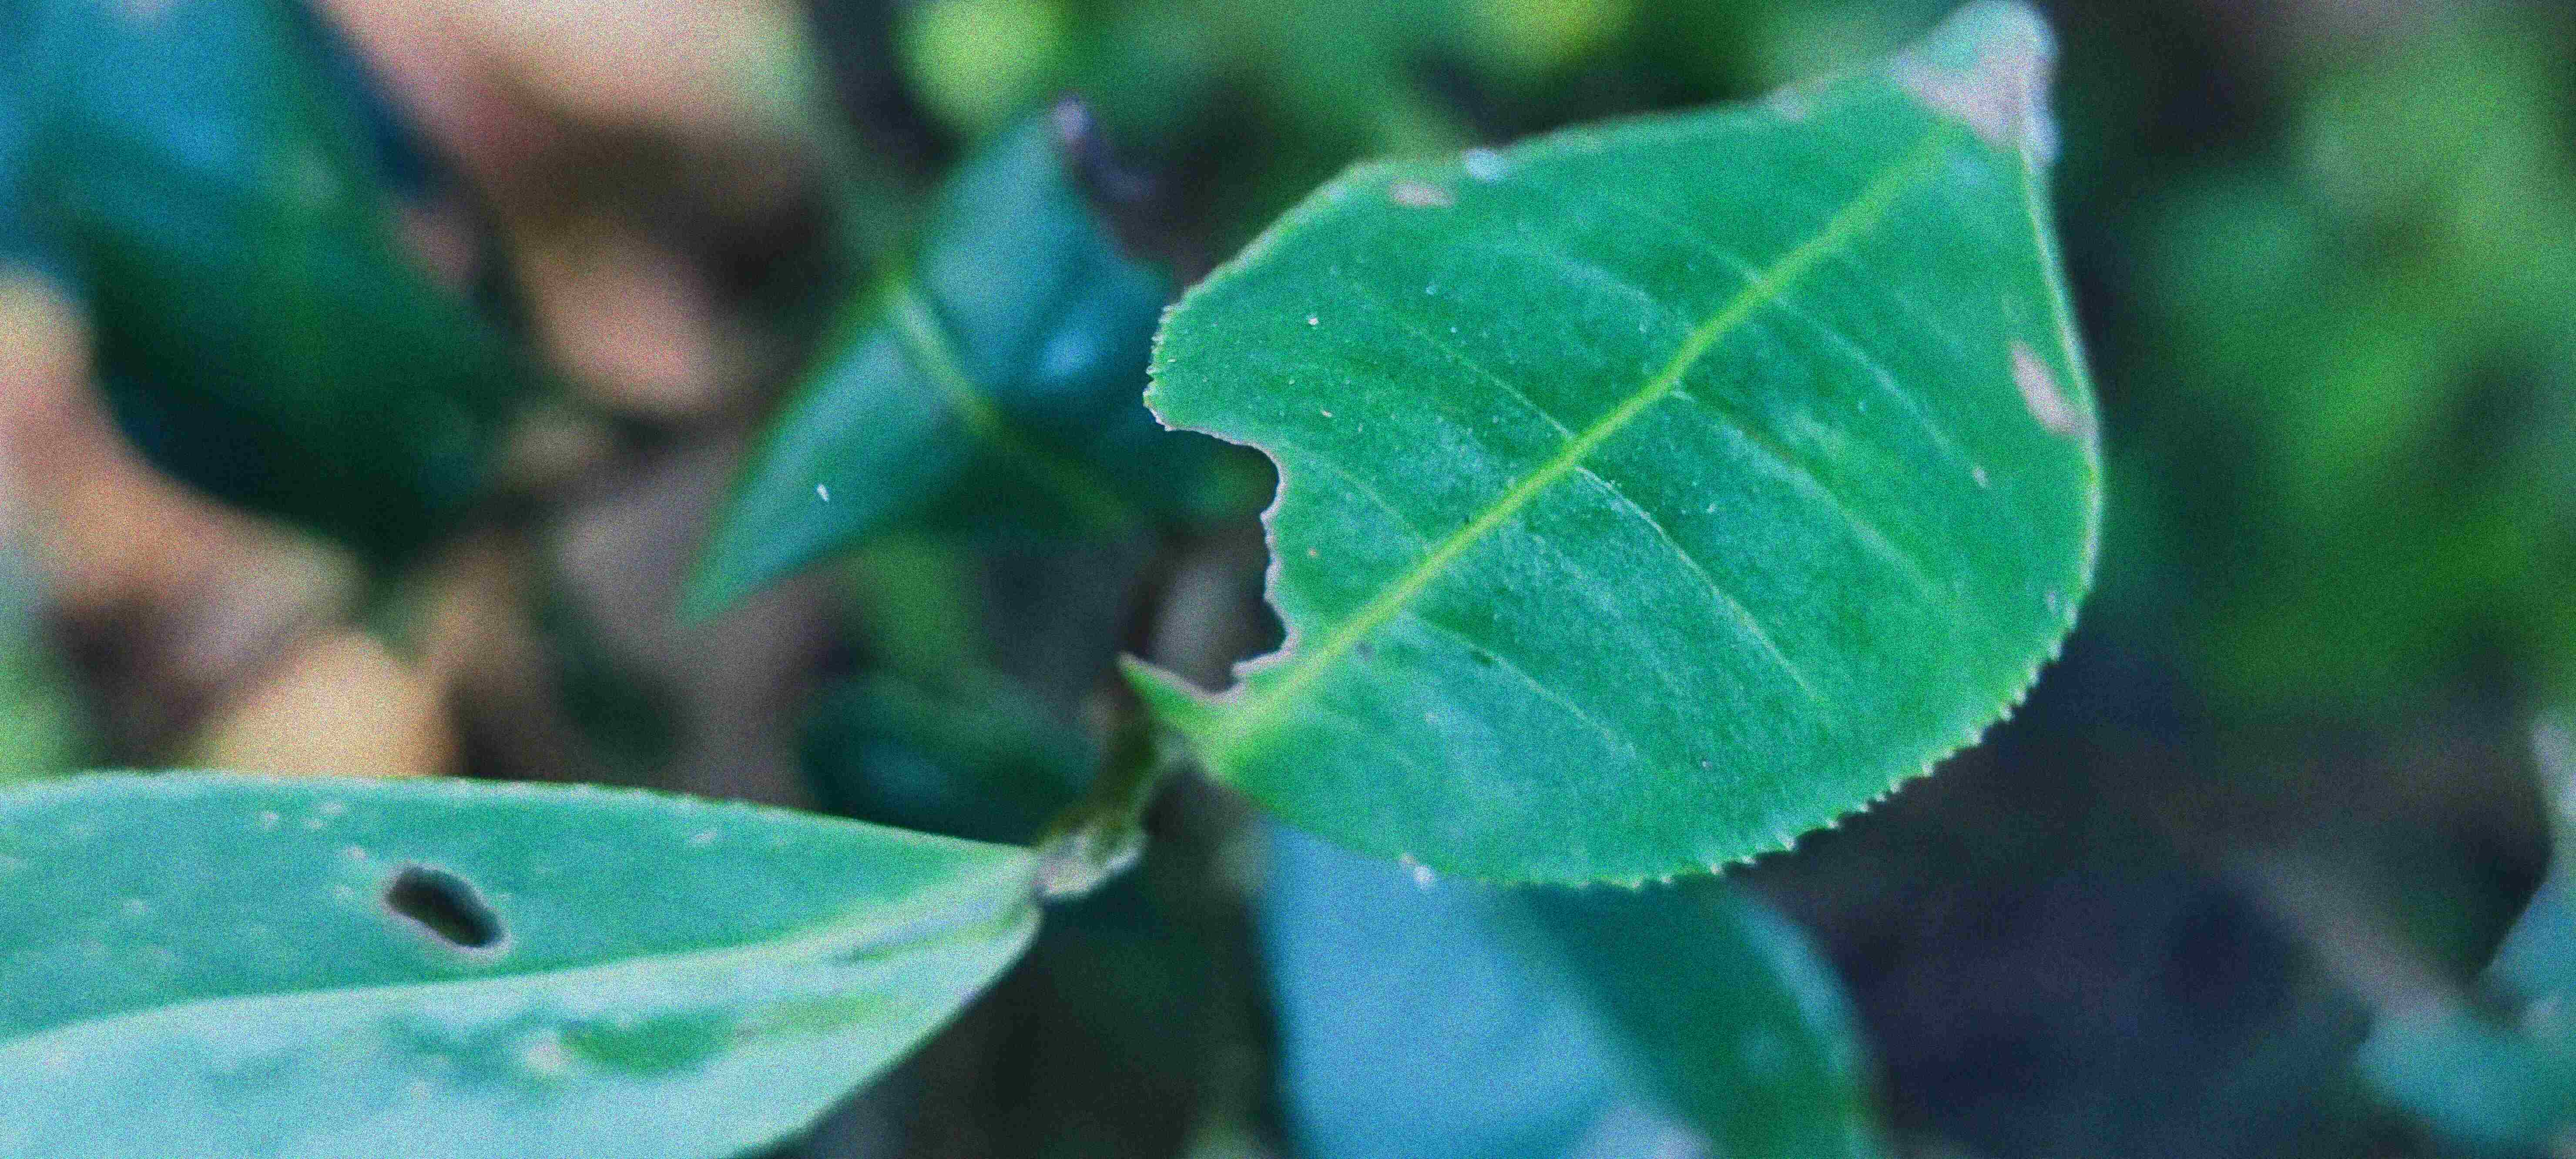chihuo_high: (1120, 8, 2104, 896)
chihuo_low: (5, 762, 1045, 1156)
